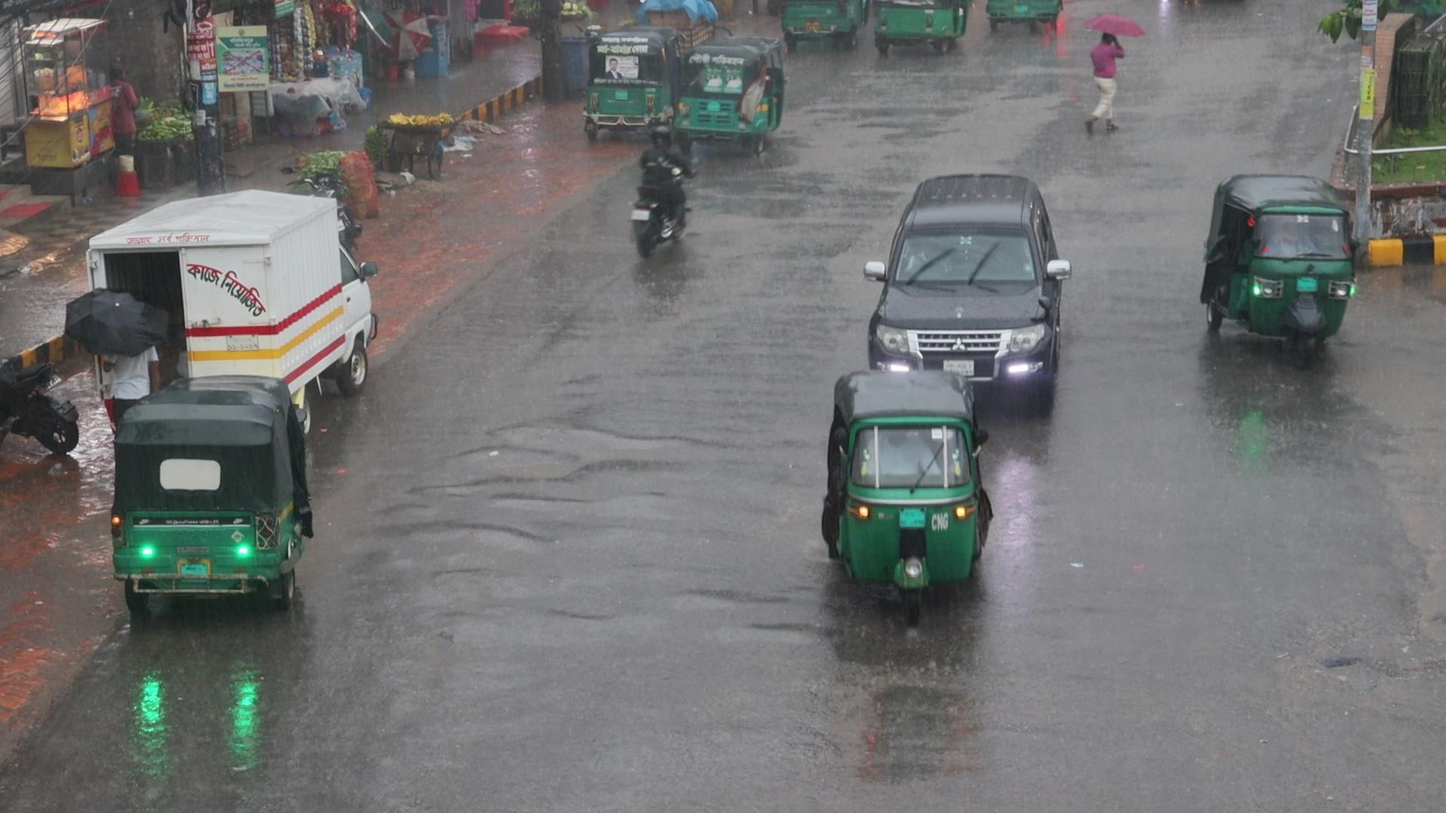Bike: (628, 122, 691, 257)
Car: (862, 170, 1068, 386)
